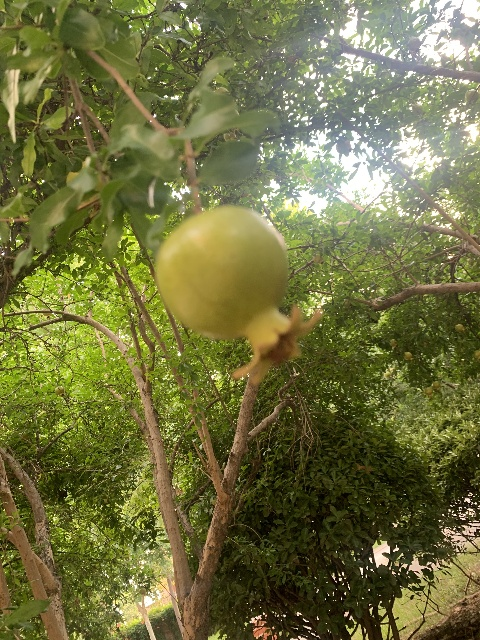mid-growth: (153, 206, 323, 384), (407, 36, 421, 54), (465, 89, 479, 105), (412, 103, 425, 116), (54, 386, 64, 397), (431, 380, 441, 390), (424, 387, 433, 398), (455, 323, 466, 332), (403, 351, 413, 360), (389, 339, 398, 347), (139, 587, 146, 596), (108, 611, 116, 618)
